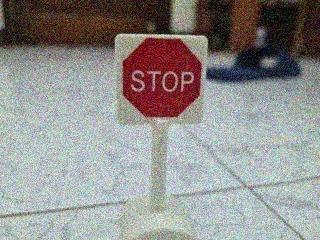stop: (105, 29, 215, 134)
